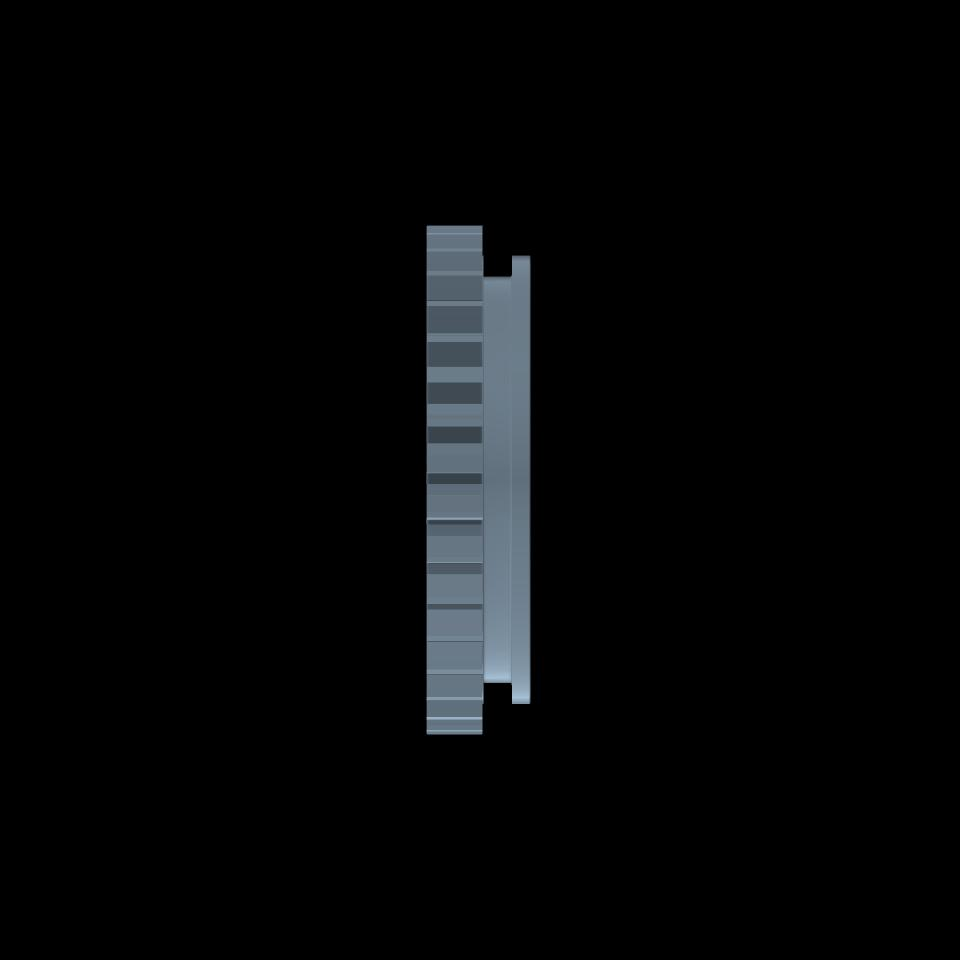Straight: (426, 225, 485, 734)
